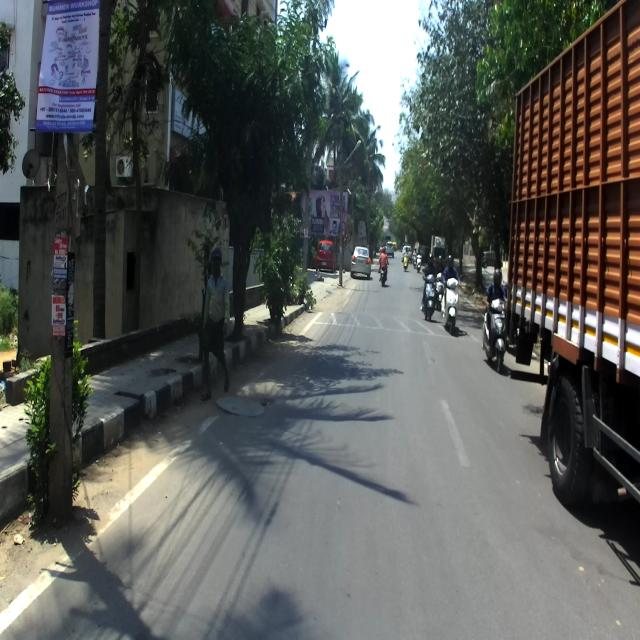electric pole ahead at: (32, 5, 108, 540)
person ahead at: (200, 245, 236, 406)
tree ahead at: (224, 109, 267, 344)
truck ahead at: (510, 0, 639, 520)
